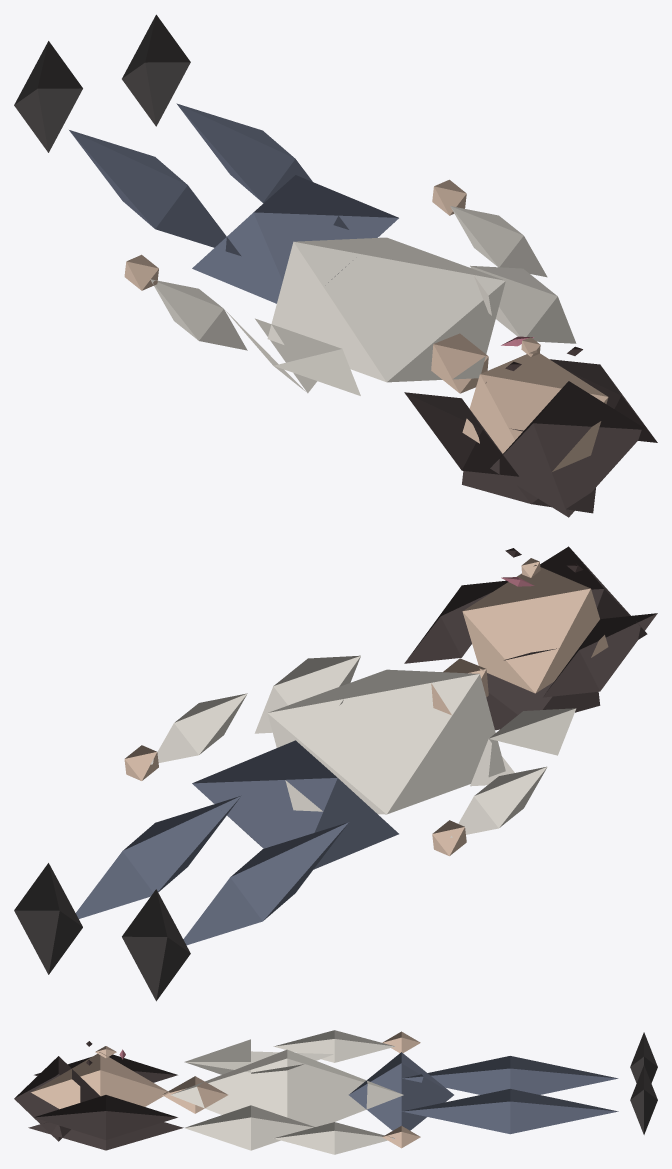
The model's file is asian_woman.glb.
3 views of the same model, one above another, from view 1: azimuth 30°, elevation 25°; view 2: azimuth 150°, elevation 25°; view 3: azimuth 270°, elevation 25° (orthographic). The views are drawn at different scales.
Visible parts, largest first — view 1: Asian_Woman_Premade; view 2: Asian_Woman_Premade; view 3: Asian_Woman_Premade.
Part boxes in pixels (x1,y1,x2,y2): Asian_Woman_Premade: (14, 14, 657, 517); Asian_Woman_Premade: (14, 546, 657, 1001); Asian_Woman_Premade: (14, 1030, 657, 1154).
Size of the model in its own units: 0.91 by 0.415 by 2.31.
